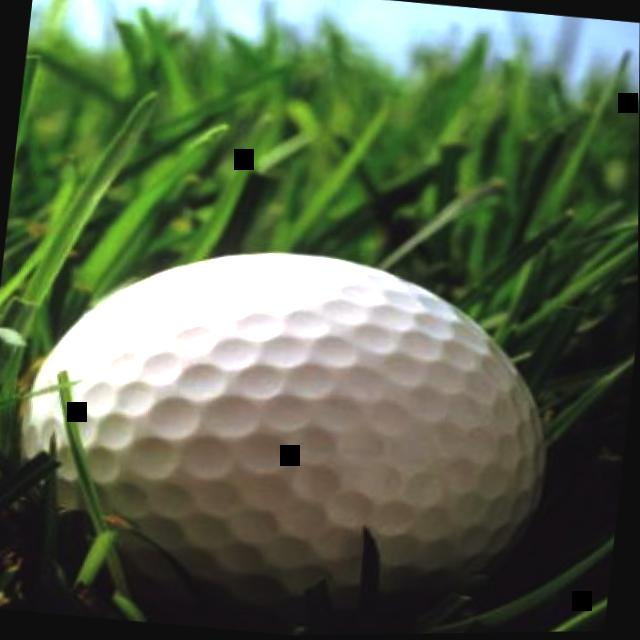golf ball: (0, 209, 588, 640)
